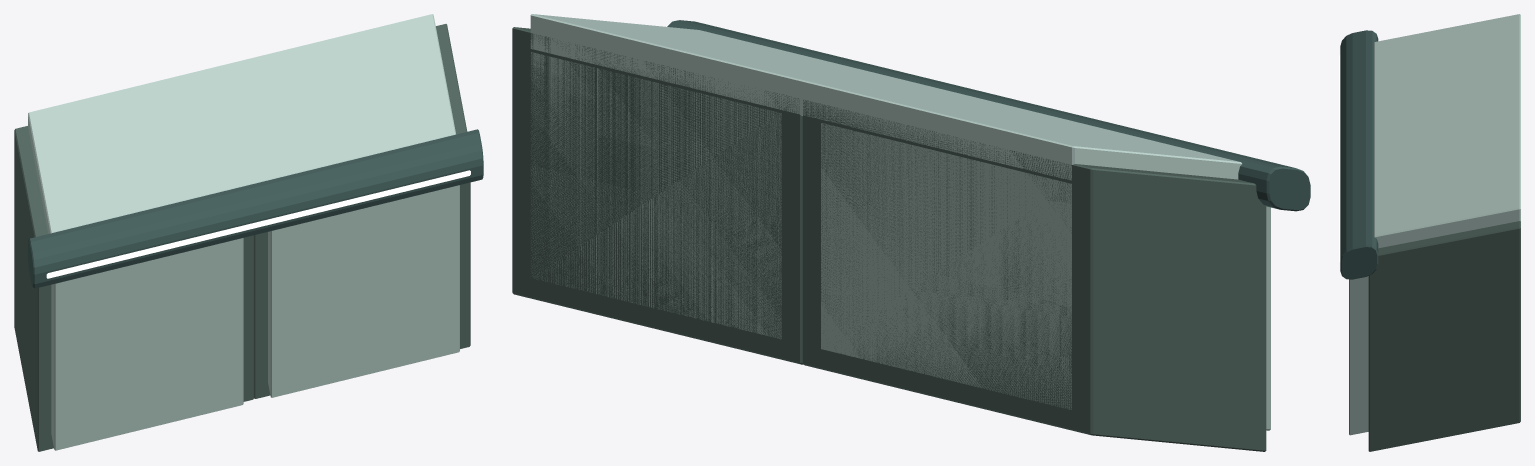
File: Terrain_TopRun2LR.gltf
The picture shows the model from 3 angles, left to right: view 1: azimuth 30°, elevation 25°; view 2: azimuth 150°, elevation 25°; view 3: azimuth 270°, elevation 25°; orthographic projection. The views are drawn at different scales.
Parts seen in each view (by area): view 1: Terrain_TopRun2LR_baked; view 2: Terrain_TopRun2LR_baked; view 3: Terrain_TopRun2LR_baked.
Part boxes in pixels (x1=…): Terrain_TopRun2LR_baked: x1=14, y1=14, x2=483, y2=451; Terrain_TopRun2LR_baked: x1=512, y1=14, x2=1310, y2=451; Terrain_TopRun2LR_baked: x1=1339, y1=14, x2=1520, y2=451.
Bounding box in the file's own units: 2.33 × 1.18 × 0.74.
